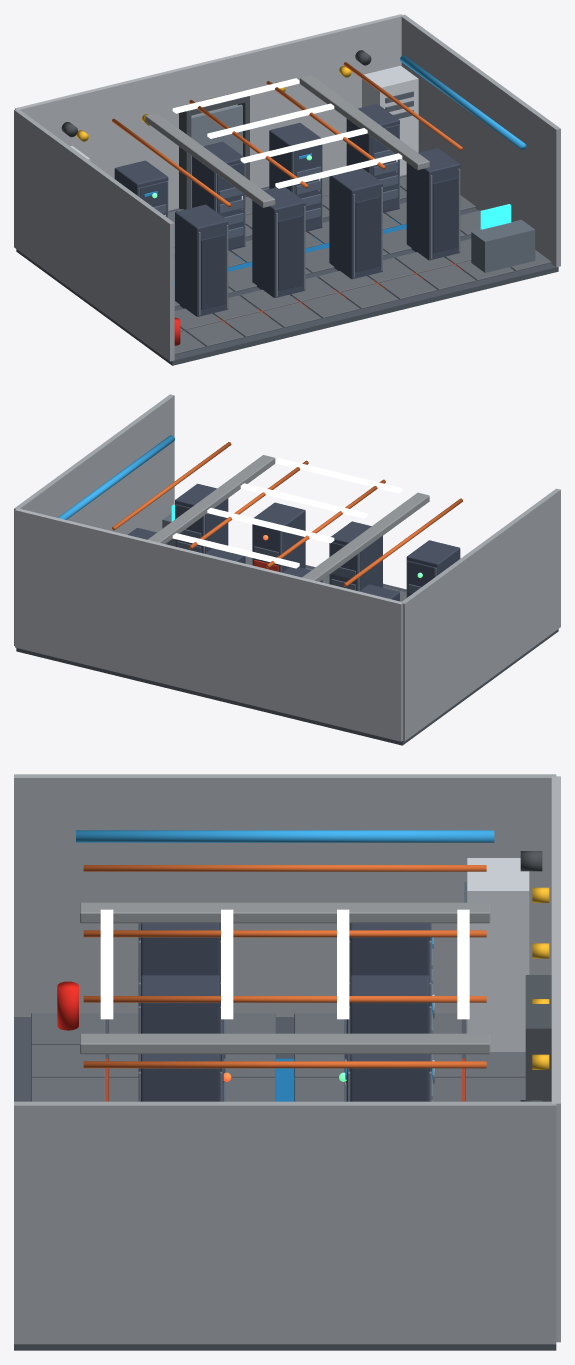
Rendered from server-room.glb.
The picture shows the model from 3 angles, top to bottom: view 1: azimuth 30°, elevation 25°; view 2: azimuth 150°, elevation 25°; view 3: azimuth 270°, elevation 25°; orthographic projection. The views are drawn at different scales.
Parts seen in each view (by area): view 1: back_wall, left_wall, right_wall, floor, rack_b1, rack_b3, rack_b4, rack_b2, control_console, cooling_right, cable_tray_left, cable_tray_right (+42 smaller); view 2: back_wall, left_wall, right_wall, floor, cable_tray_left, cable_tray_right, rack_b3, rack_b2, rack_b4, rack_b1, cooling_pipe_2, ceiling_light_2 (+10 smaller); view 3: right_wall, left_wall, cooling_left, cable_tray_right, cable_tray_left, floor, cooling_pipe_1, back_wall, rack_a2, rack_b2, rack_a1, rack_b1 (+27 smaller).
Part boxes in pixels (<box>): back_wall: <box>15,14,403,210</box>; left_wall: <box>14,109,174,361</box>; right_wall: <box>401,14,560,267</box>; floor: <box>16,186,558,365</box>; rack_b1: <box>175,204,228,316</box>; rack_b3: <box>329,168,382,279</box>; rack_b4: <box>406,148,460,260</box>; rack_b2: <box>252,187,305,297</box>; control_console: <box>471,219,535,272</box>; cooling_right: <box>362,65,418,175</box>; cable_tray_left: <box>145,113,275,207</box>; cable_tray_right: <box>299,75,429,170</box>; back_wall: <box>15,508,402,741</box>; left_wall: <box>400,488,560,741</box>; right_wall: <box>14,394,174,645</box>; floor: <box>16,565,558,745</box>; cable_tray_left: <box>302,492,429,581</box>; cable_tray_right: <box>147,455,275,543</box>; rack_b3: <box>254,502,305,571</box>; rack_b2: <box>331,521,382,590</box>; rack_b4: <box>175,483,228,553</box>; rack_b1: <box>406,540,460,575</box>; cooling_pipe_2: <box>57,435,174,519</box>; ceiling_light_2: <box>240,483,367,518</box>; right_wall: <box>14,1101,556,1344</box>; left_wall: <box>14,774,556,1016</box>; cooling_left: <box>467,858,529,1051</box>; cable_tray_right: <box>80,1033,490,1054</box>; cable_tray_left: <box>80,902,490,923</box>; floor: <box>14,1017,556,1350</box>; cooling_pipe_1: <box>76,830,494,842</box>; back_wall: <box>551,776,560,1342</box>; rack_a2: <box>350,975,432,1059</box>; rack_b2: <box>141,975,219,1033</box>; rack_a1: <box>350,923,432,994</box>; rack_b1: <box>141,923,219,976</box>.
Bounding box in the file's own units: 10.12 × 3.52 × 7.06.
